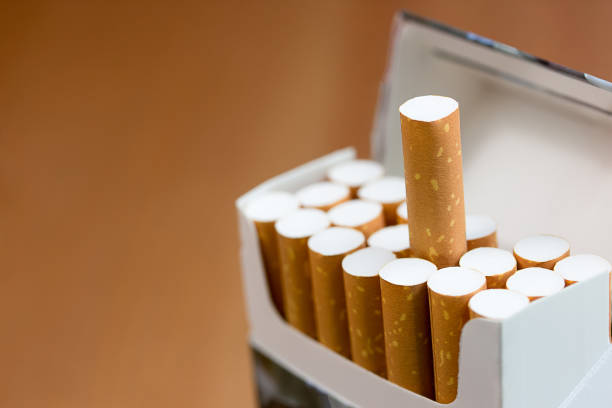cigarette: (234, 9, 612, 408), (399, 95, 468, 266), (379, 257, 439, 399), (306, 225, 366, 362), (427, 264, 486, 403), (341, 246, 397, 381), (274, 207, 330, 338), (247, 189, 299, 320), (324, 157, 387, 198), (458, 245, 518, 288), (356, 176, 406, 223), (504, 265, 565, 301), (329, 199, 385, 237), (513, 234, 572, 270), (468, 287, 530, 320), (554, 254, 612, 286), (296, 180, 351, 210), (367, 223, 411, 258), (465, 215, 498, 251), (394, 201, 407, 223)
